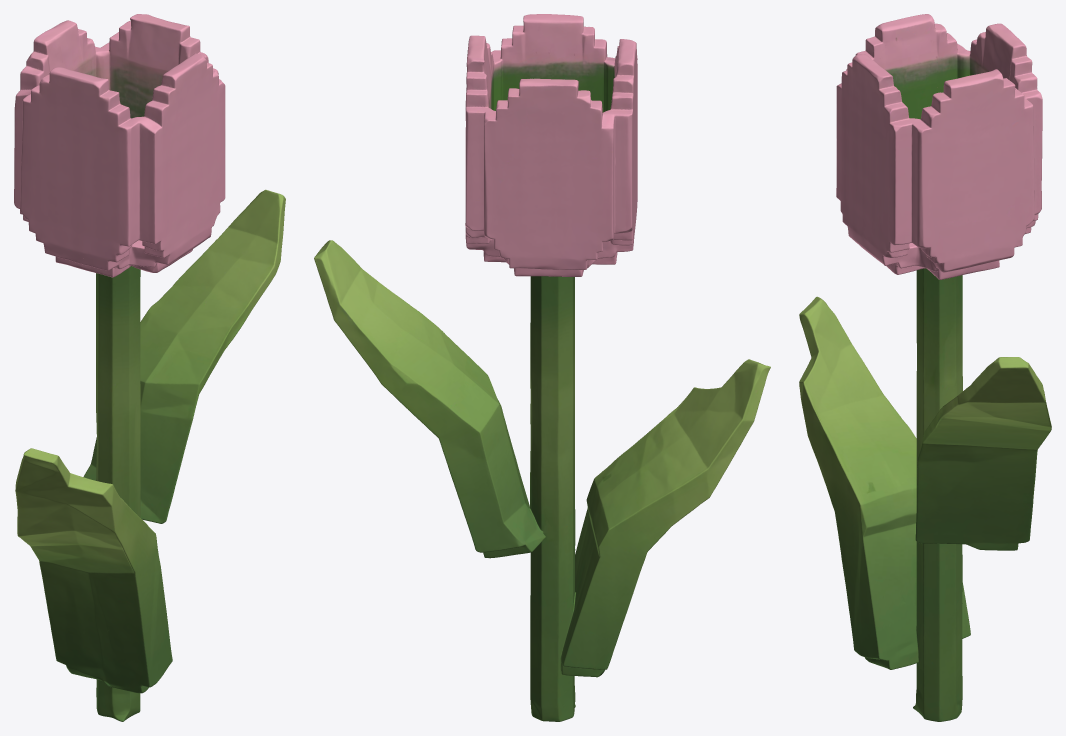
File: tulip_pink.glb
3 renders of one model, left to right at view 1: azimuth 30°, elevation 25°; view 2: azimuth 150°, elevation 25°; view 3: azimuth 270°, elevation 25°, orthographic.
Parts seen in each view (by area): view 1: Mesh::generatedModels/6UIgjV7SI6SDQUvDCdWI.gltf; view 2: Mesh::generatedModels/6UIgjV7SI6SDQUvDCdWI.gltf; view 3: Mesh::generatedModels/6UIgjV7SI6SDQUvDCdWI.gltf.
Boxes of the visible parts, x1,y1,x2,y2 form: Mesh::generatedModels/6UIgjV7SI6SDQUvDCdWI.gltf: (14, 14, 285, 721); Mesh::generatedModels/6UIgjV7SI6SDQUvDCdWI.gltf: (314, 14, 770, 721); Mesh::generatedModels/6UIgjV7SI6SDQUvDCdWI.gltf: (799, 14, 1051, 721).
Bounding box in the file's own units: 0.5594 × 1 × 0.3448.
1 material, 1 textured.
